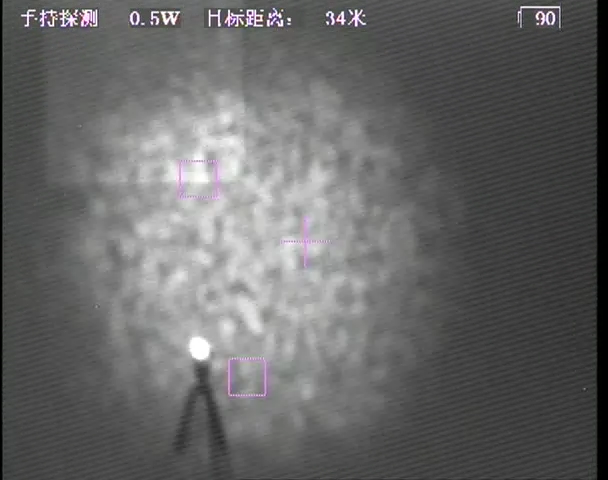my: (188, 336, 212, 359)
